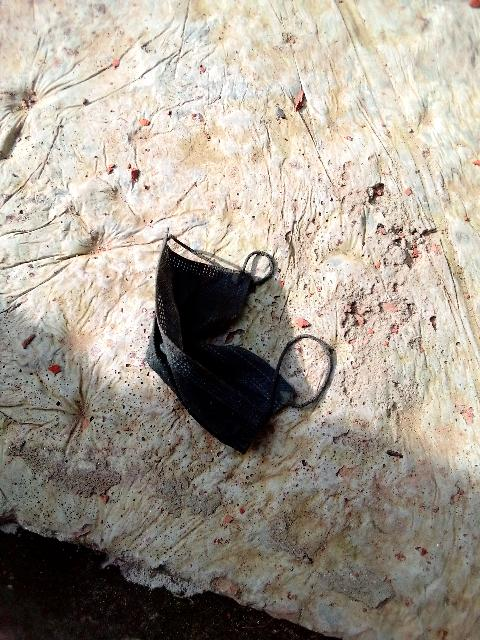mask: (136, 262, 301, 471)
